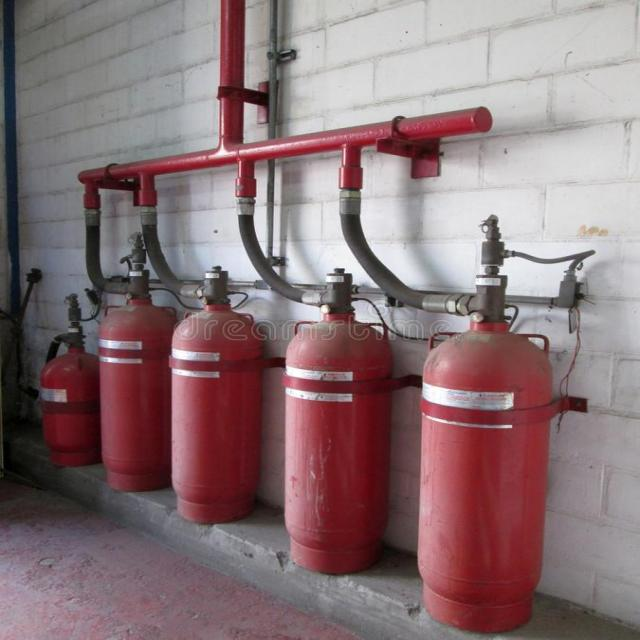fire_extinguisher: (401, 210, 569, 640), (280, 264, 400, 576), (165, 240, 272, 534), (91, 233, 193, 494), (32, 285, 120, 474)
